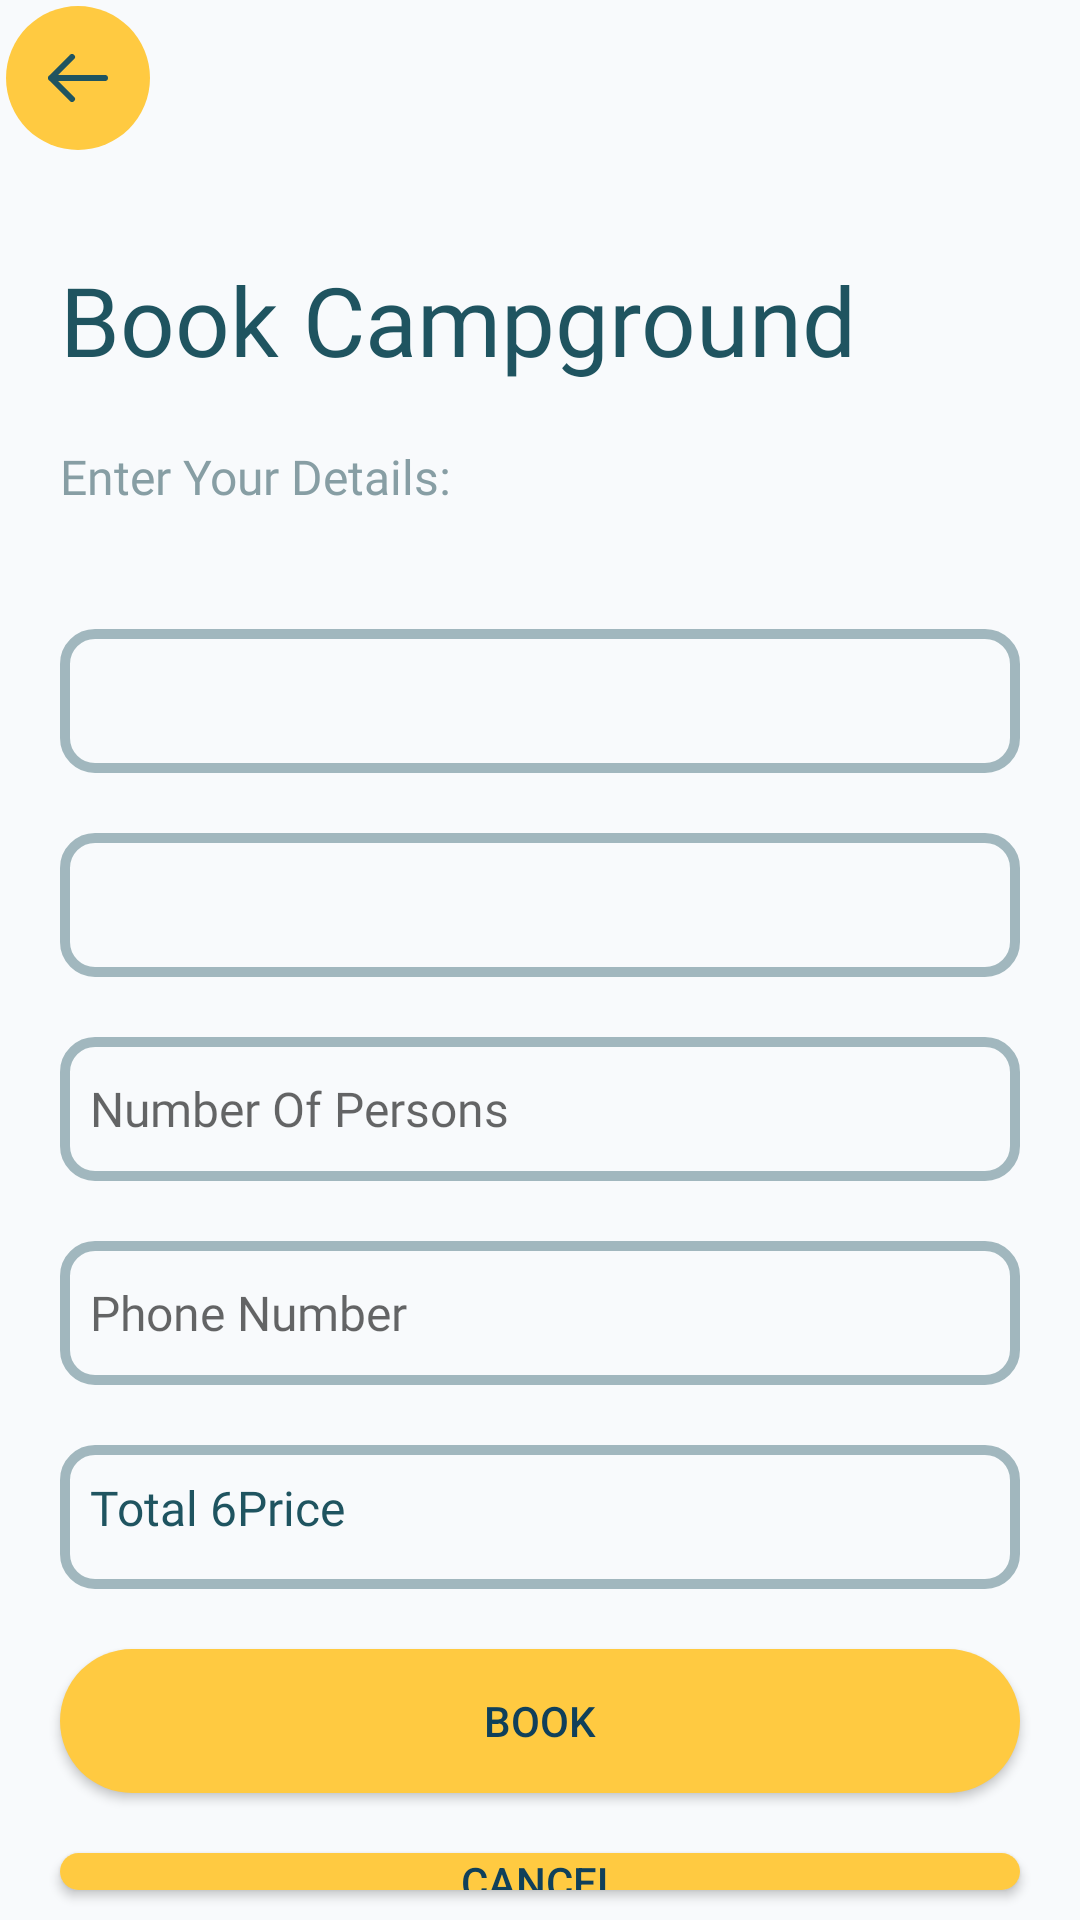

Where icons sit on this 1080 × 1920 app screen, as (x1, y1, x2, y2):
Go Back: (6, 6, 150, 150)
